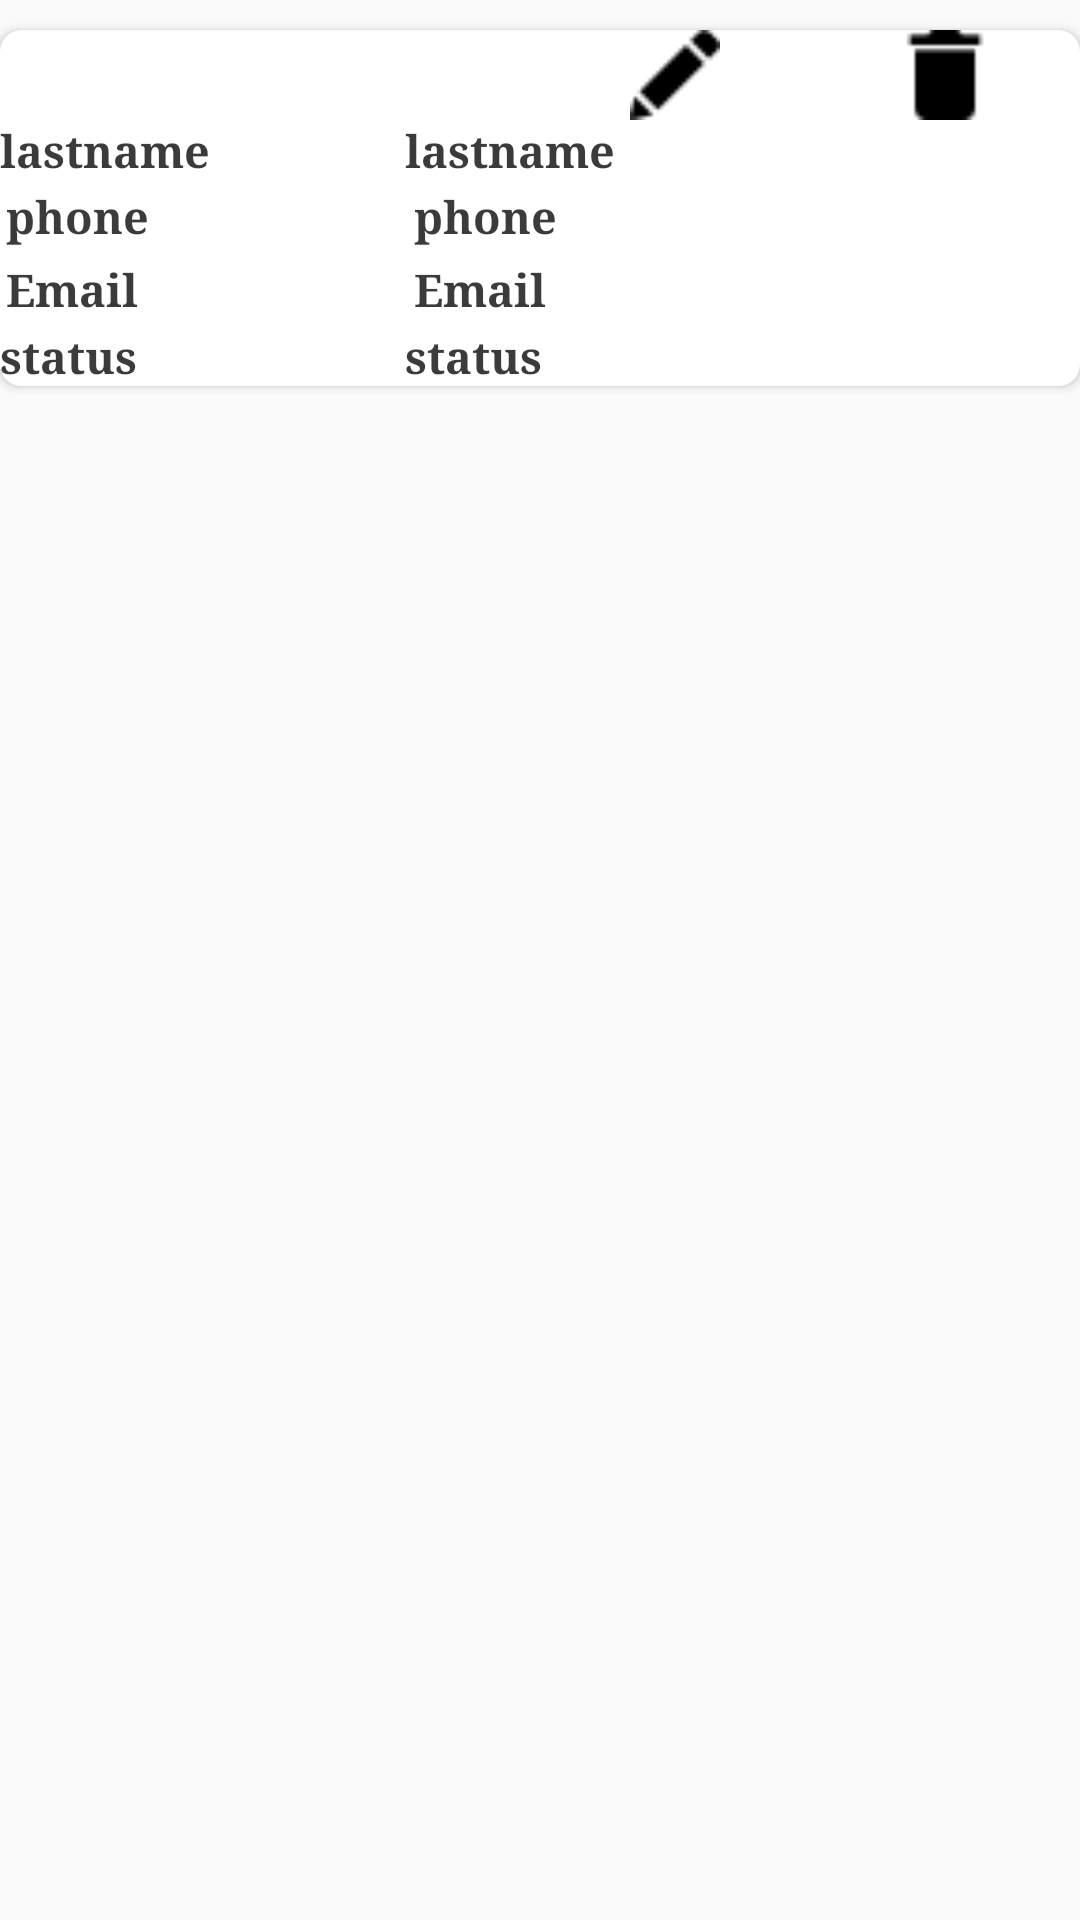

Named icons in this screenshot (1080px x 1920px) and their centers, [x,y]:
edit: [675,75]
